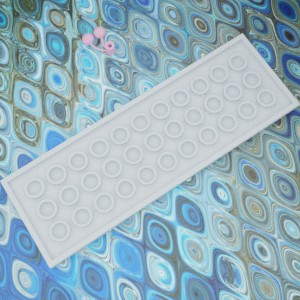lego: (0, 33, 300, 268), (82, 26, 115, 55)
